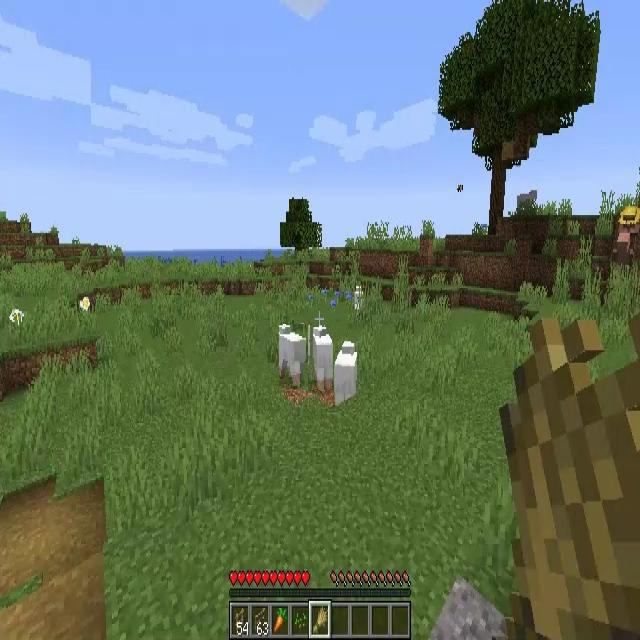flower: (10, 309, 24, 327), (81, 296, 89, 316)
sheep: (279, 324, 308, 390), (335, 338, 360, 402), (311, 325, 333, 390), (355, 286, 363, 310)
